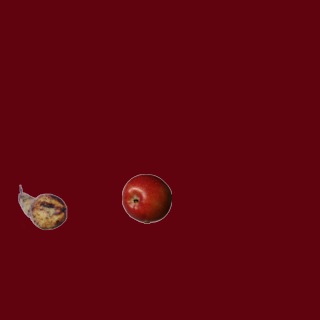Apple Braeburn: (121, 173, 171, 223)
Pear Abate: (17, 182, 67, 232)
